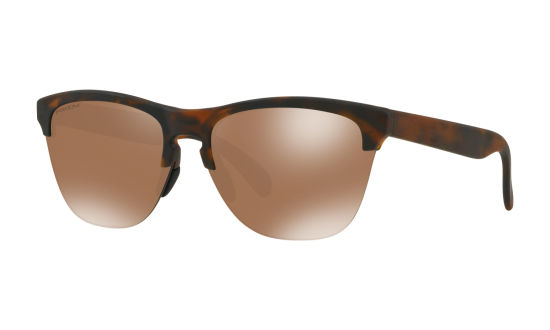sunglasses: (16, 81, 537, 258)
